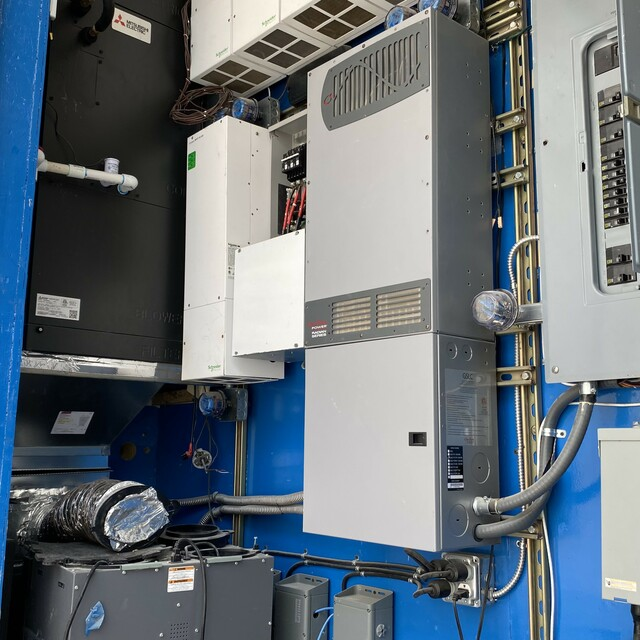inverter: (298, 10, 506, 556)
